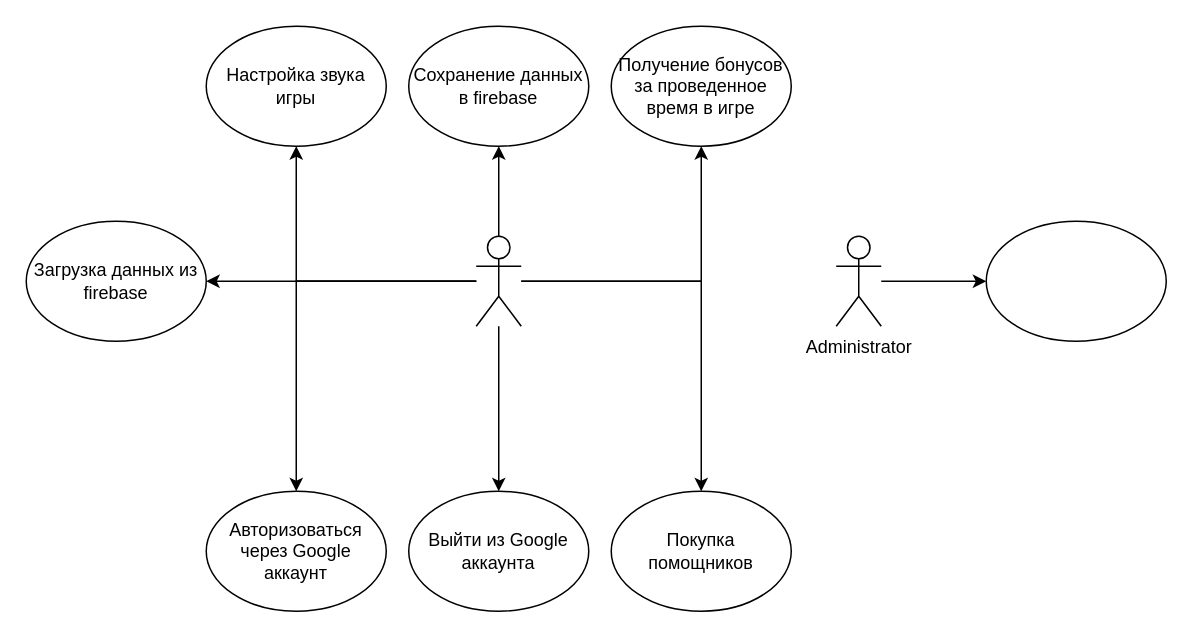
The diagram is 1193 pixels wide and 638 high, and some of its shapes have lost their labels. The shapes that lost their labels are listed below. From the top down, each one's centre as x and y in pixels, then its label:
[498,280]: User
[1075,280]: Редактирование данных в firebase
